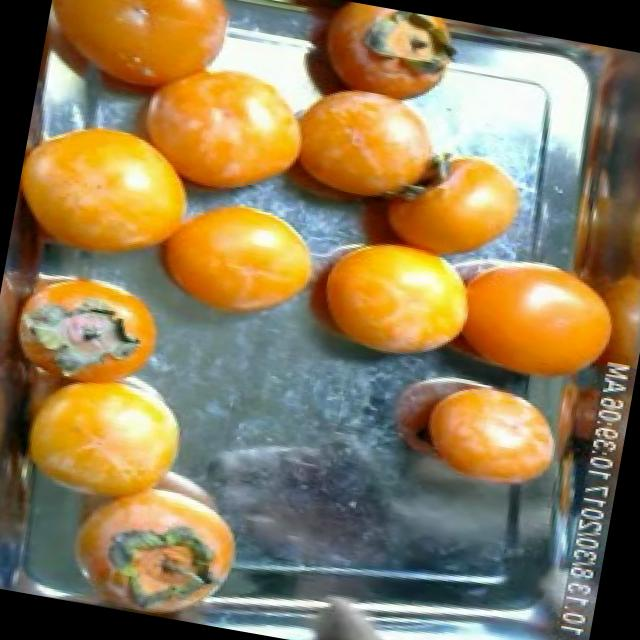Fruit: (0, 345, 214, 546), (7, 101, 225, 290), (276, 213, 494, 387), (125, 180, 339, 346), (373, 358, 582, 510)
